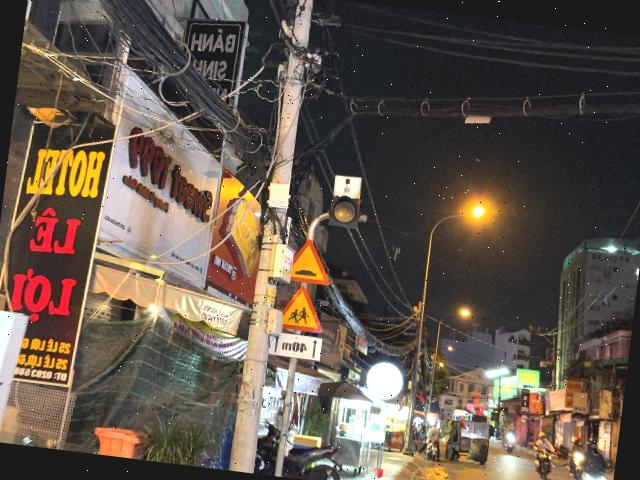duong-co-go-giam-toc: (291, 237, 334, 285)
tre-em-qua-duong: (280, 283, 326, 333)
